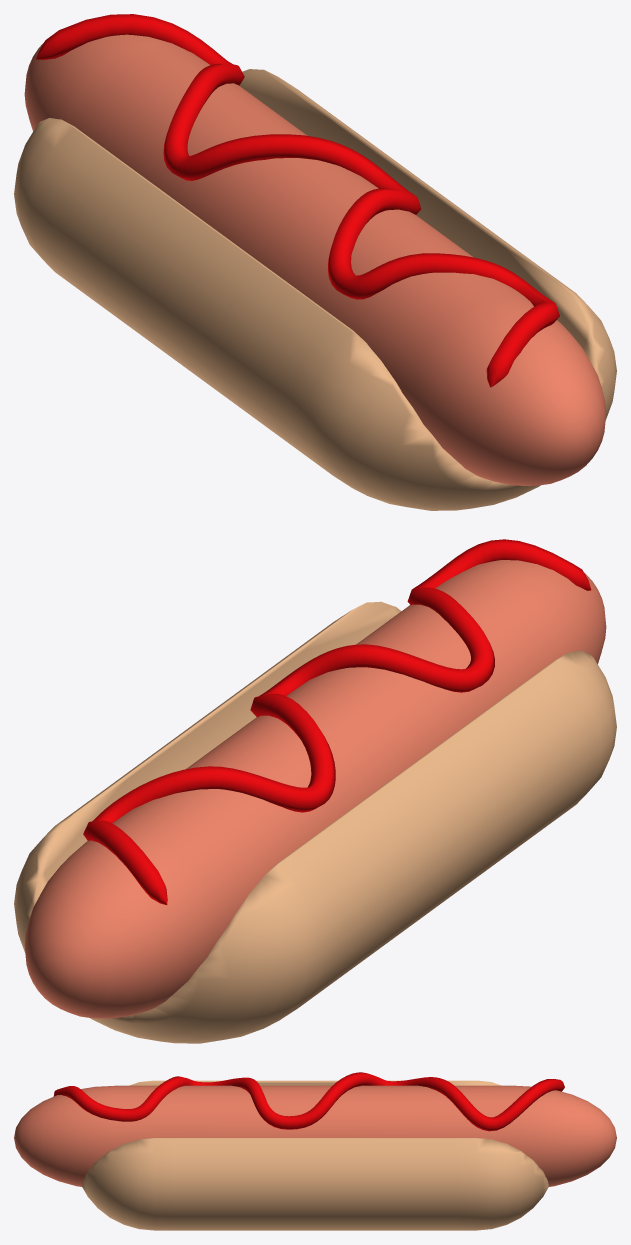
Rendered from HotDog.fbx.
The picture shows the model from 3 angles, top to bottom: view 1: azimuth 30°, elevation 25°; view 2: azimuth 150°, elevation 25°; view 3: azimuth 270°, elevation 25°; orthographic projection. The views are drawn at different scales.
Parts seen in each view (by area): view 1: HotDog, Sausage, Sauce; view 2: HotDog, Sausage, Sauce; view 3: HotDog, Sausage, Sauce.
Boxes of the visible parts, <box> form: HotDog: <box>14,69,616,510</box>; Sausage: <box>24,34,606,485</box>; Sauce: <box>36,14,559,387</box>; HotDog: <box>14,601,616,1043</box>; Sausage: <box>24,560,606,1018</box>; Sauce: <box>83,539,591,904</box>; HotDog: <box>82,1080,548,1230</box>; Sausage: <box>14,1085,616,1186</box>; Sauce: <box>53,1072,564,1131</box>.
Bounding box in the file's own units: 82.11 × 63.86 × 253.
